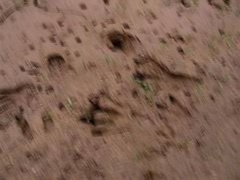rat: (32, 17, 200, 139)
